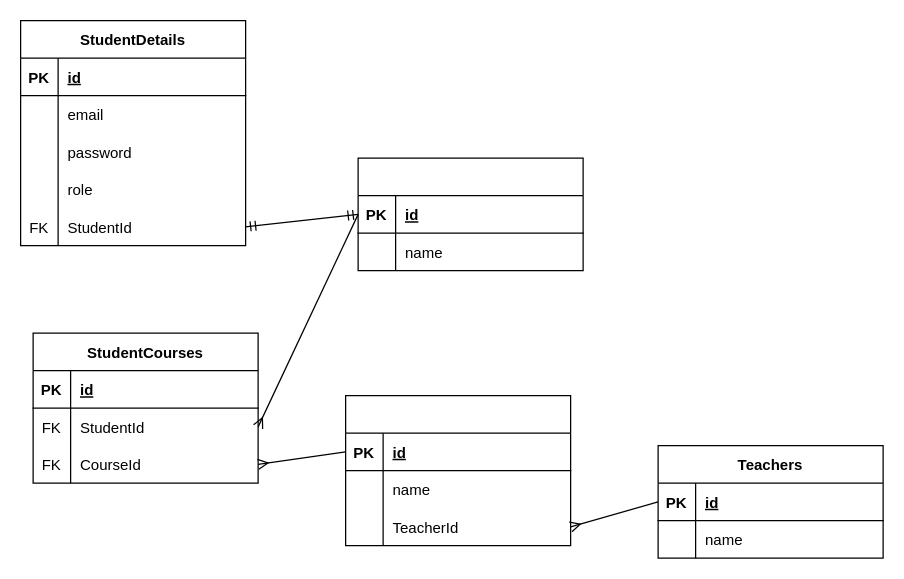
This 904x579 diagram has some shape labels left out. Here are the shapes that lost their labels. From the top down, the box of each, then its label:
(357, 157, 583, 271): Students
(344, 394, 571, 546): Courses
